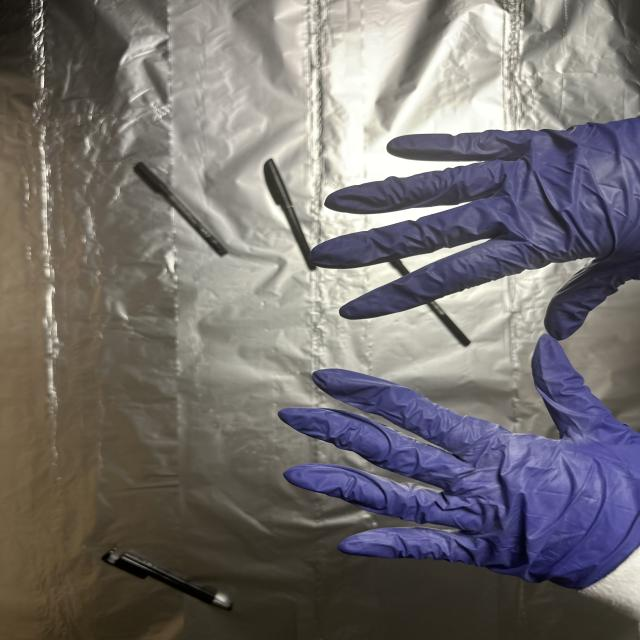gloves_contaminated: (279, 338, 640, 590), (310, 118, 640, 340)
